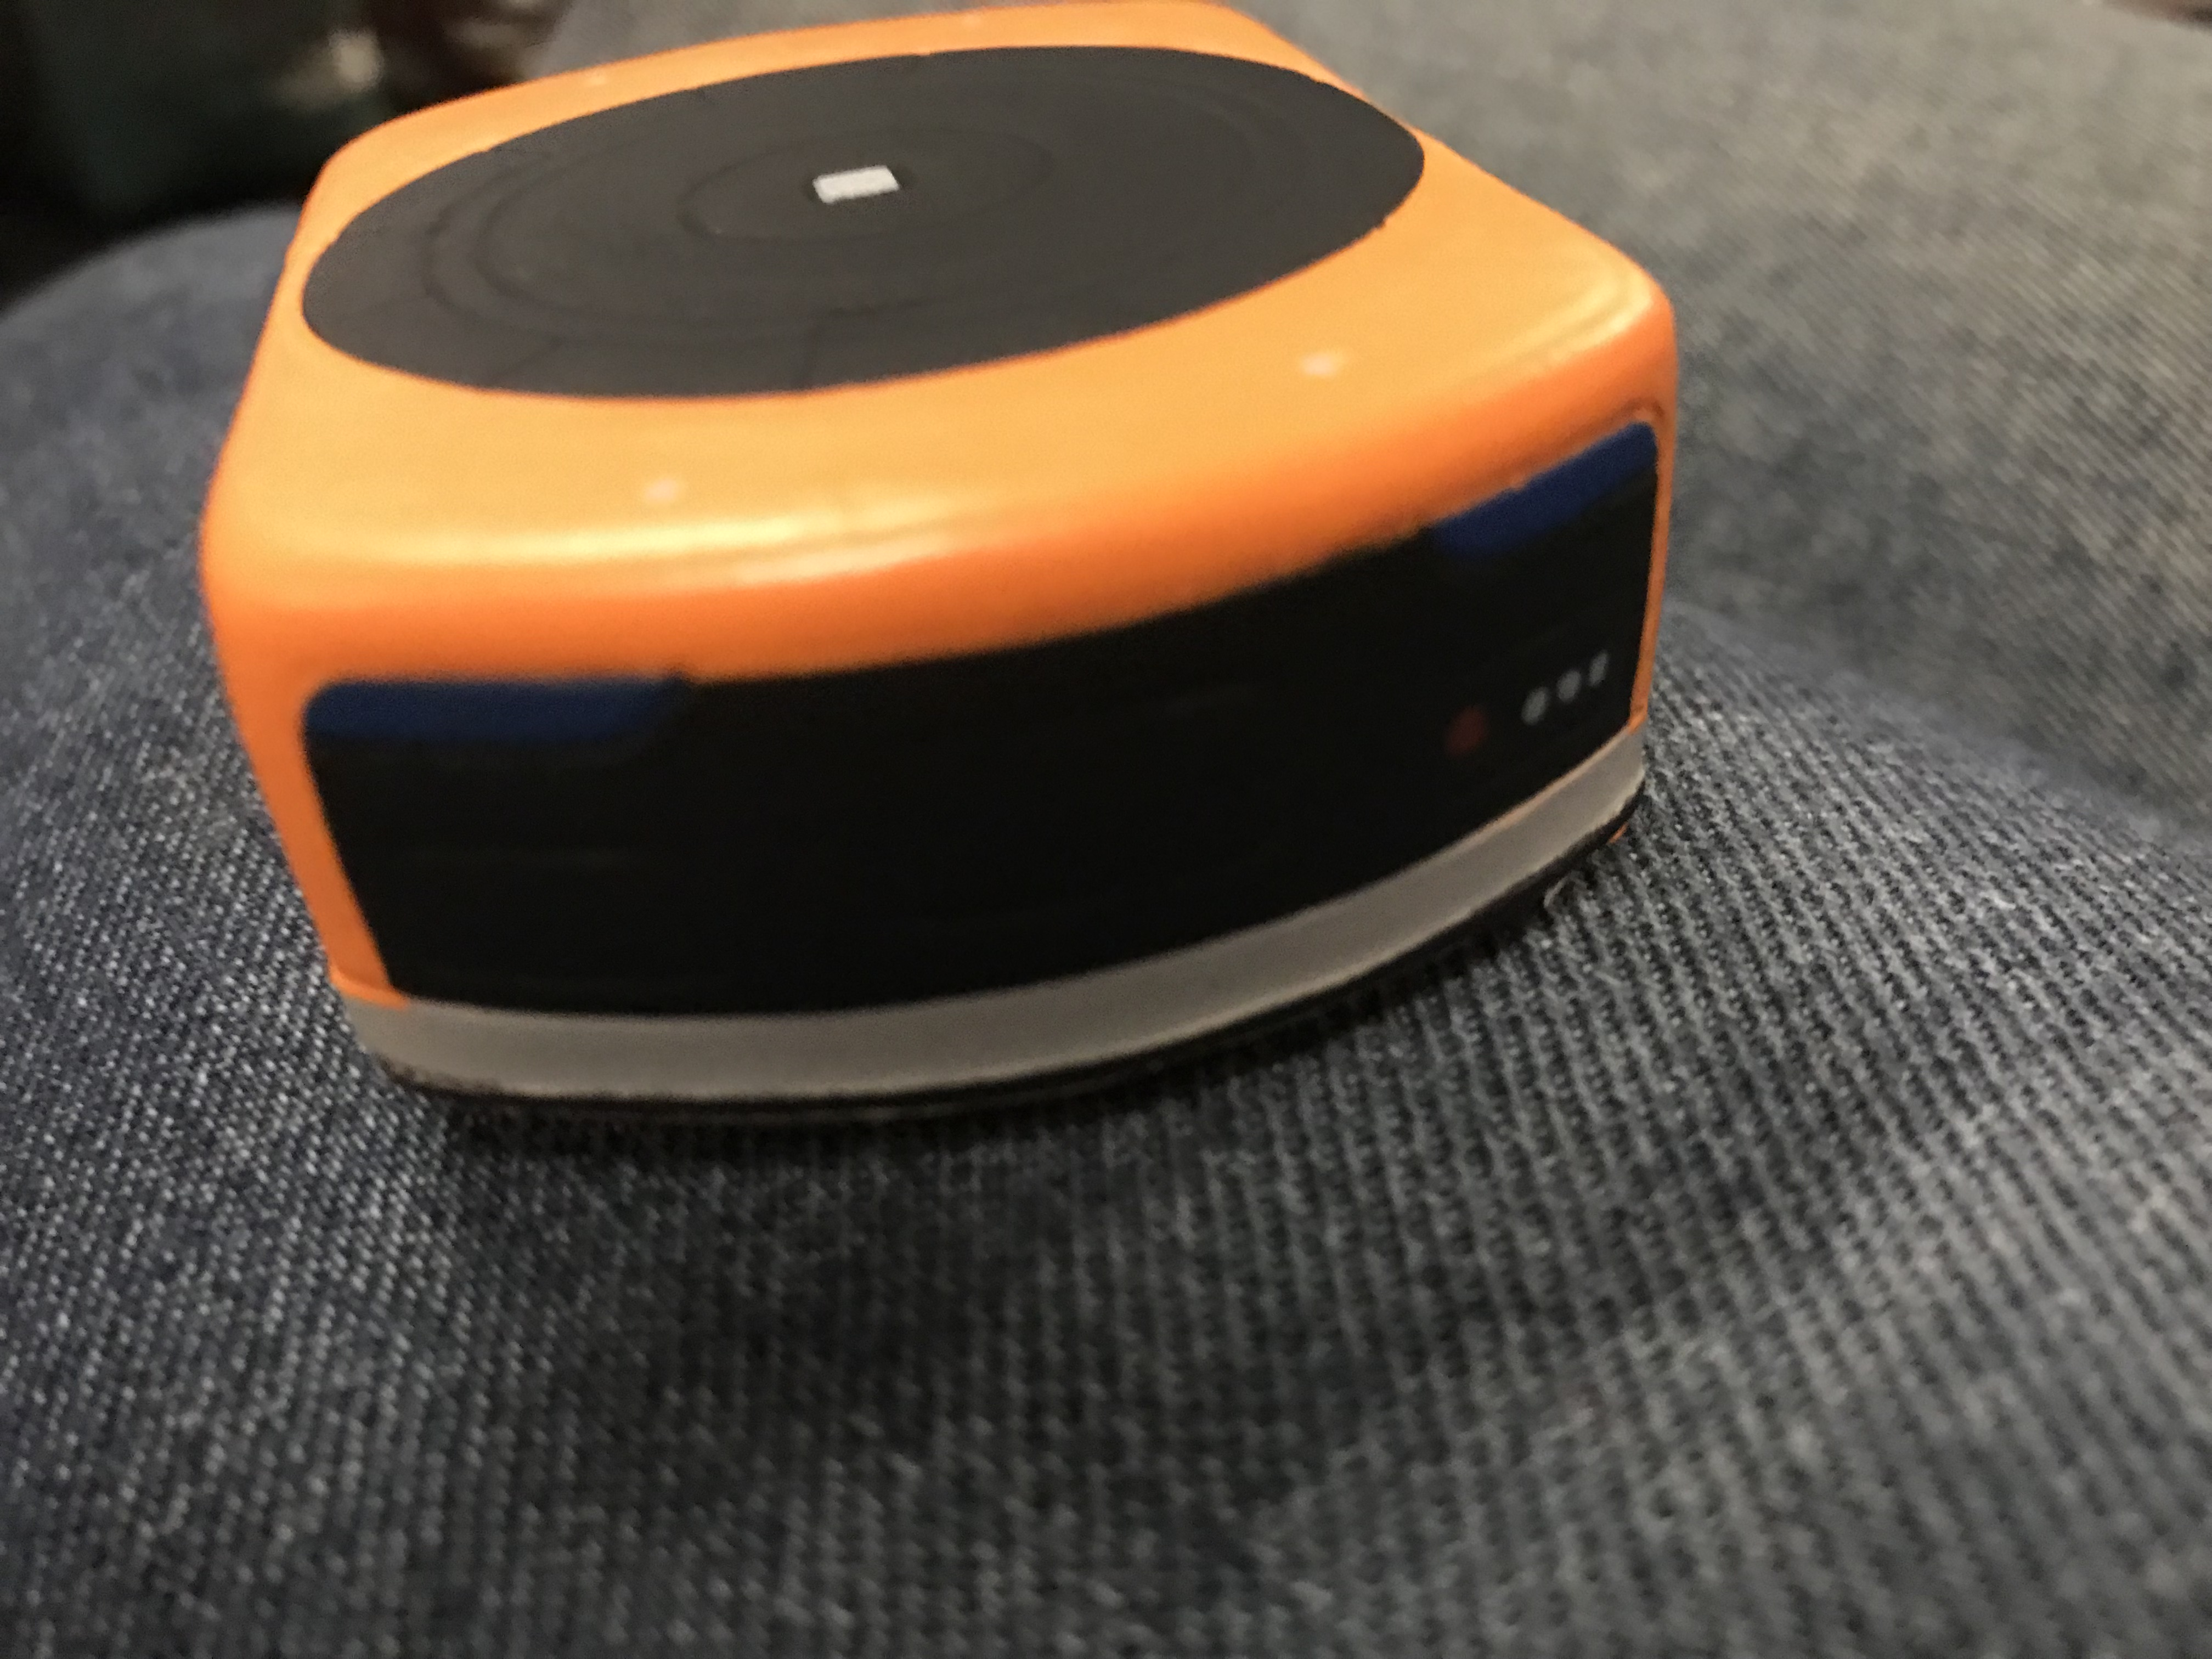amazon_bot: (190, 7, 1700, 1145)
